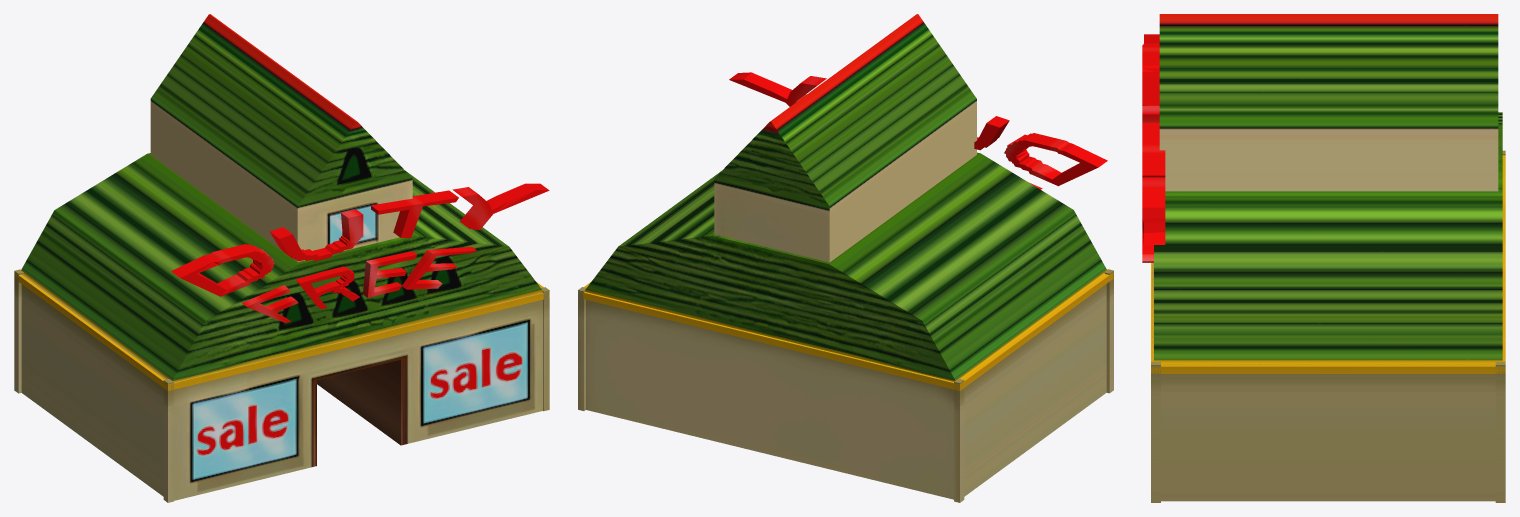
File: Dutyfree.glb
3 views of the same model, side by side, from view 1: azimuth 30°, elevation 25°; view 2: azimuth 150°, elevation 25°; view 3: azimuth 270°, elevation 25° (orthographic). The views are drawn at different scales.
Parts seen in each view (by area): view 1: Dutyfree; view 2: Dutyfree; view 3: Dutyfree.
Part boxes in pixels (left/top/right/bottom): Dutyfree: left=14, top=14, right=549, bottom=502; Dutyfree: left=578, top=14, right=1113, bottom=502; Dutyfree: left=1142, top=14, right=1505, bottom=502.
Size of the model in its own units: 270 by 224 by 193.
Materials: 1 (1 with a texture image).
